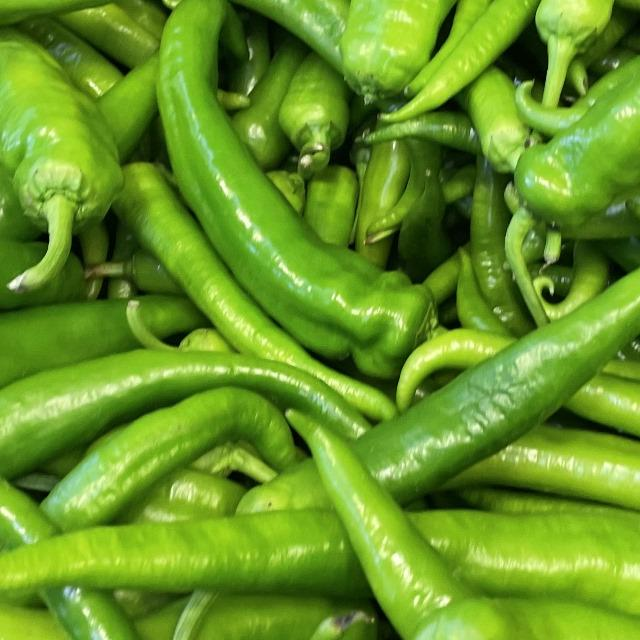chili_pepper: (157, 0, 457, 392)
